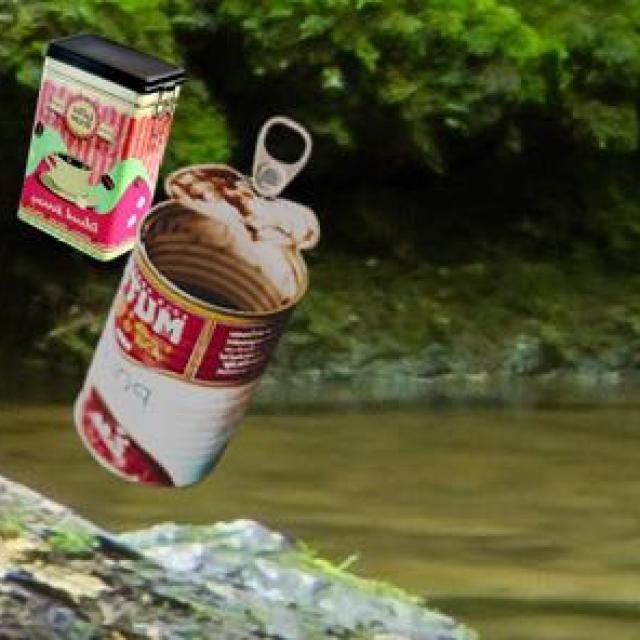logam: (77, 116, 323, 483), (21, 29, 187, 256)
